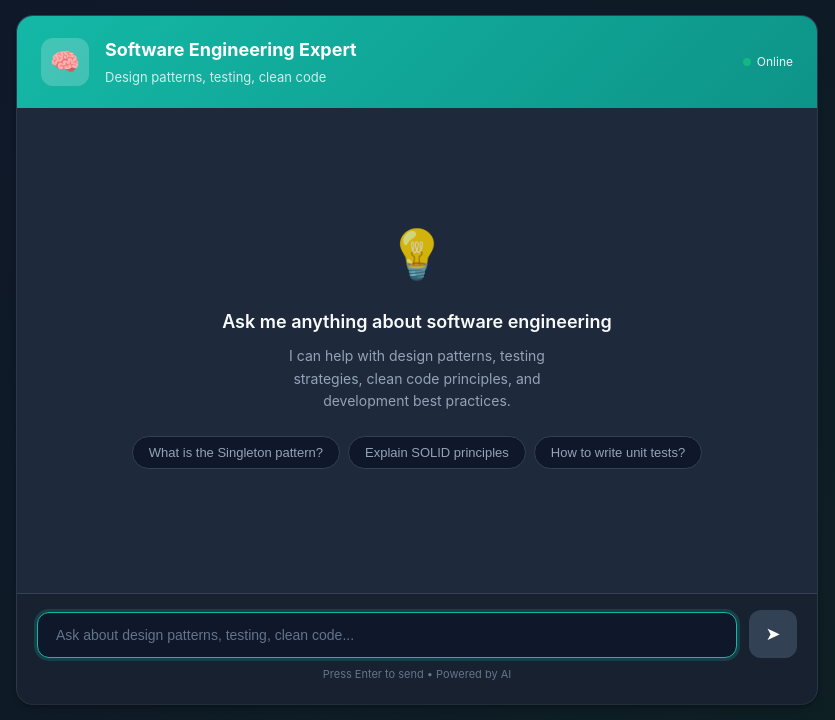
Test: ChatBox › should display error message on failure
This screenshot has width=835, height=720.
Type "Test" into the field with placeholder "Ask about design patterns, testing, clean code...".
click(387, 635); type("Test")  # box top-left (37, 612), bottom-right (737, 658)
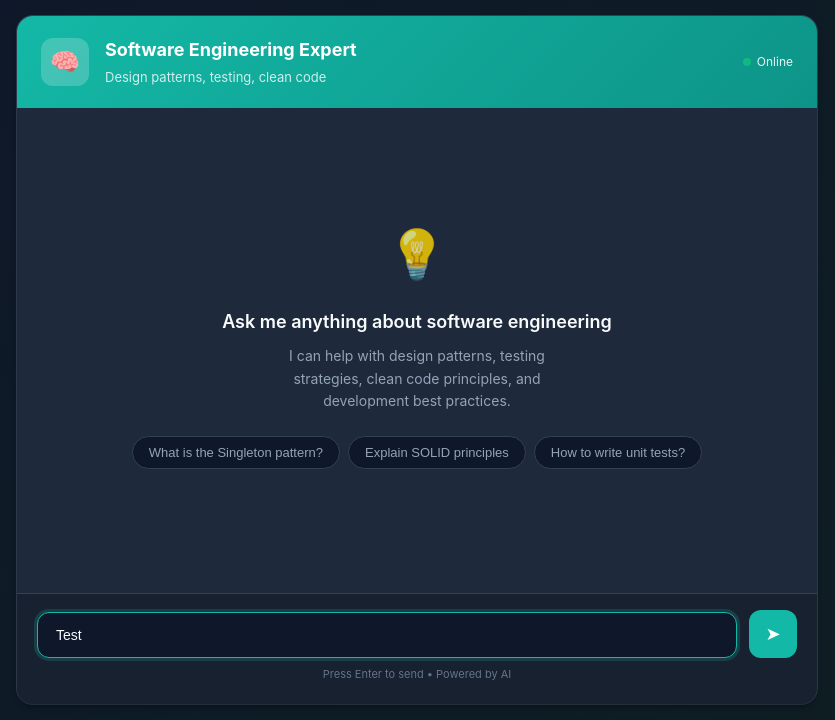
Press Enter
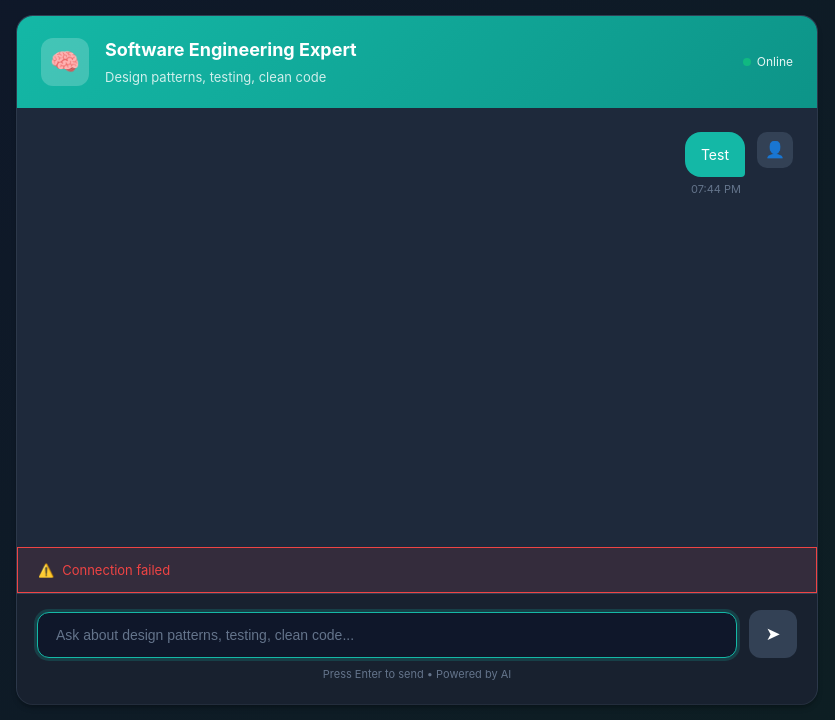
Now the text "Connection failed" is shown, box top-left (62, 562), bottom-right (170, 578)
